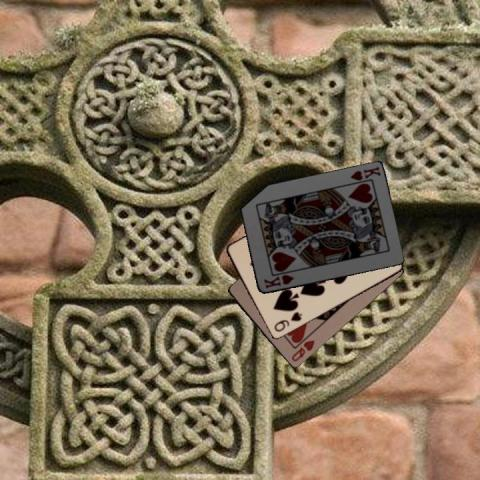9s: (271, 310, 303, 334)
Kh: (347, 163, 382, 182), (261, 272, 295, 291)
Qh: (288, 337, 316, 363)
